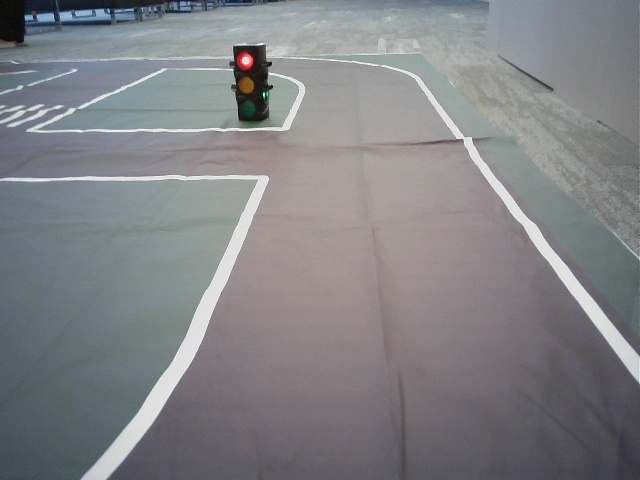red: (233, 48, 258, 119)
